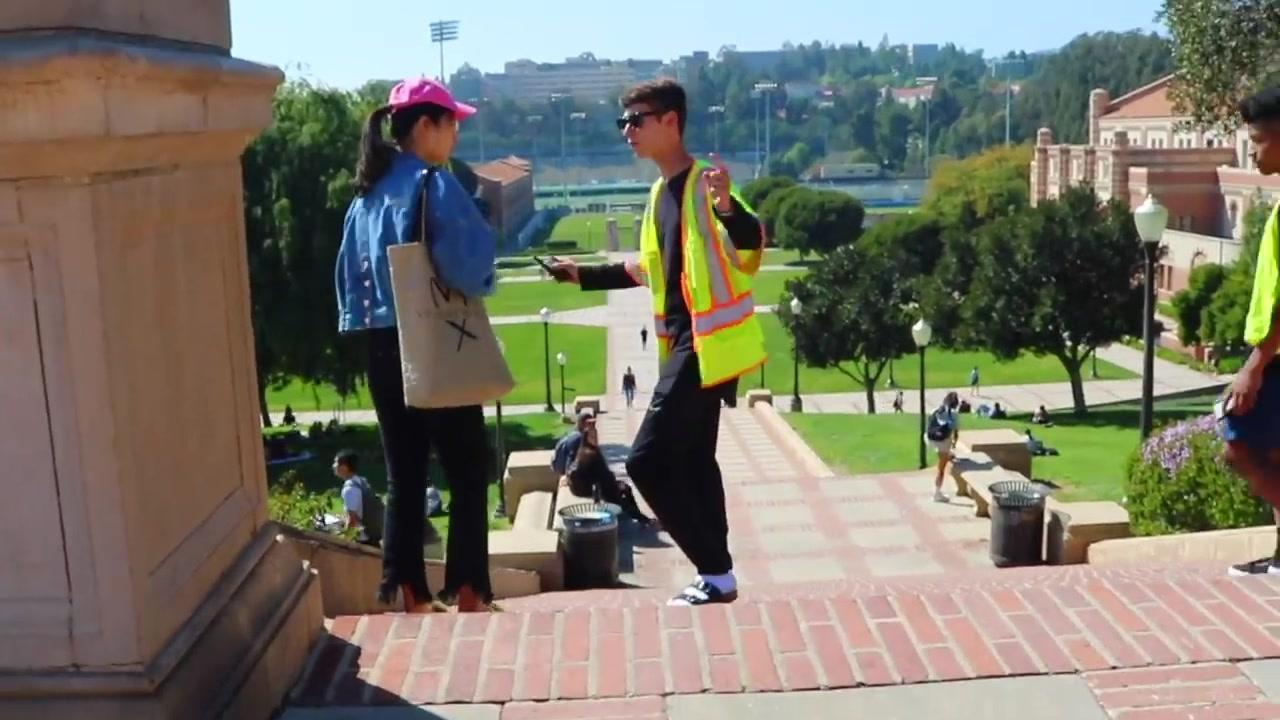vest: (626, 157, 770, 386)
